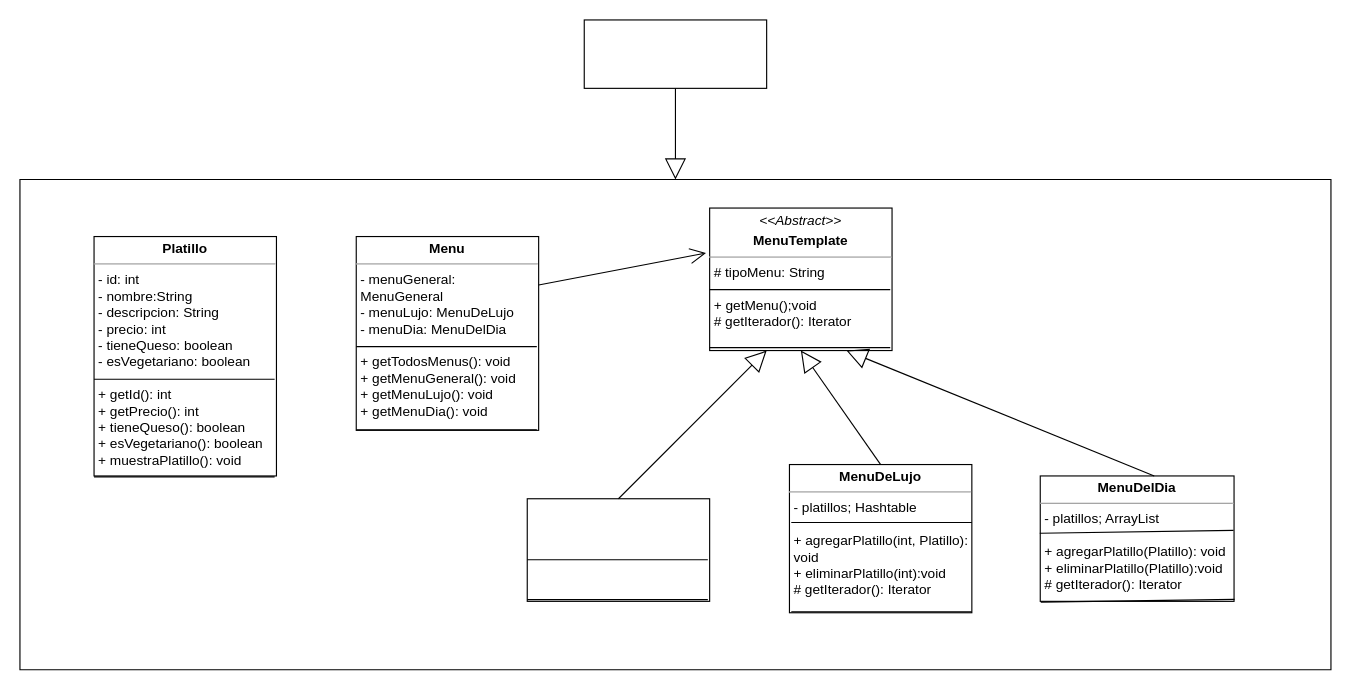
Some shapes in this 1351 by 690 pixel diagram are drawn without their labels. Each missing label, with the centre of its shape:
"MenuGeneral - platillos; Platillo[] # getIterador(): Iterator" goes at [618,549].
"Restaurante + main():void" goes at [675,53].
